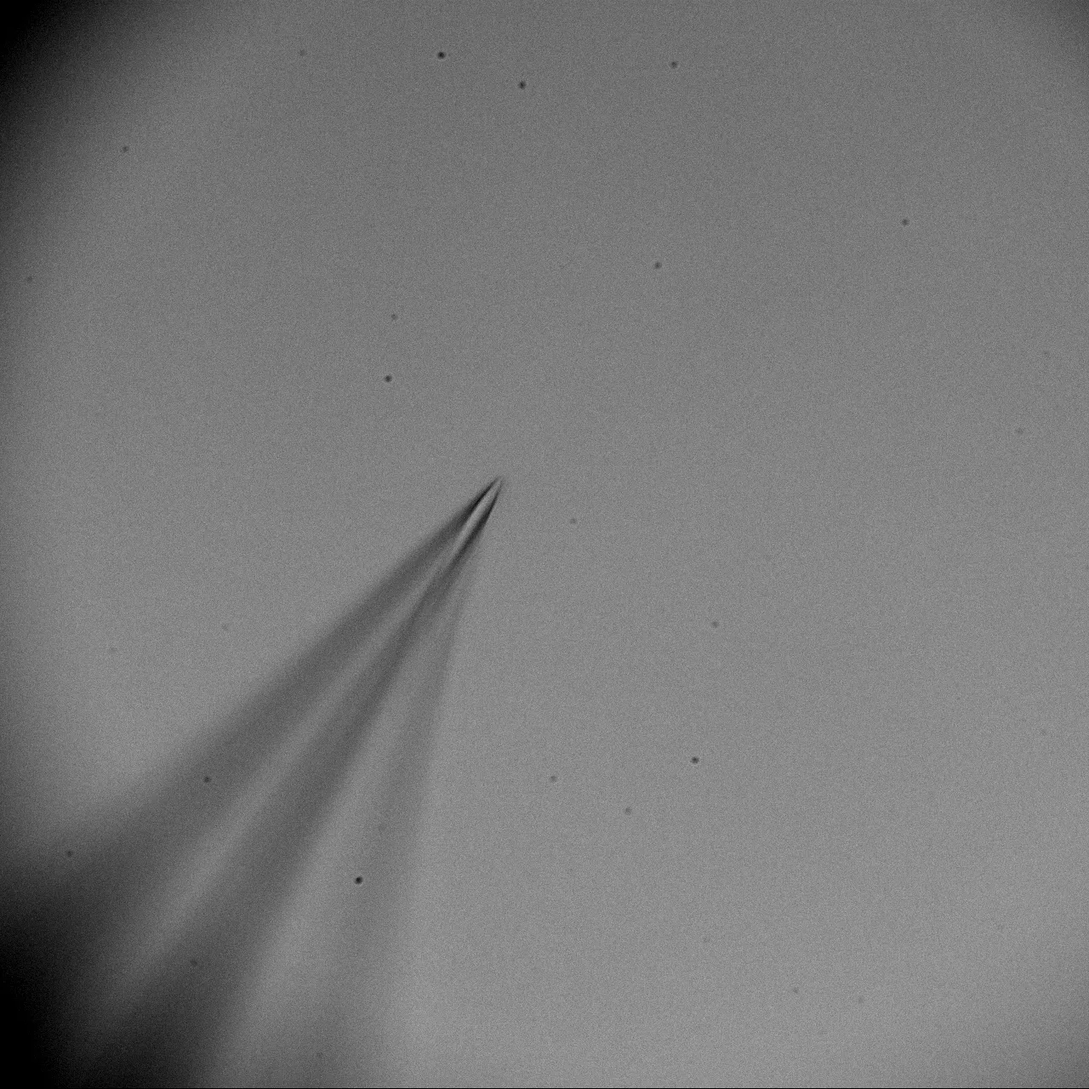tip: (432, 461, 515, 583)
